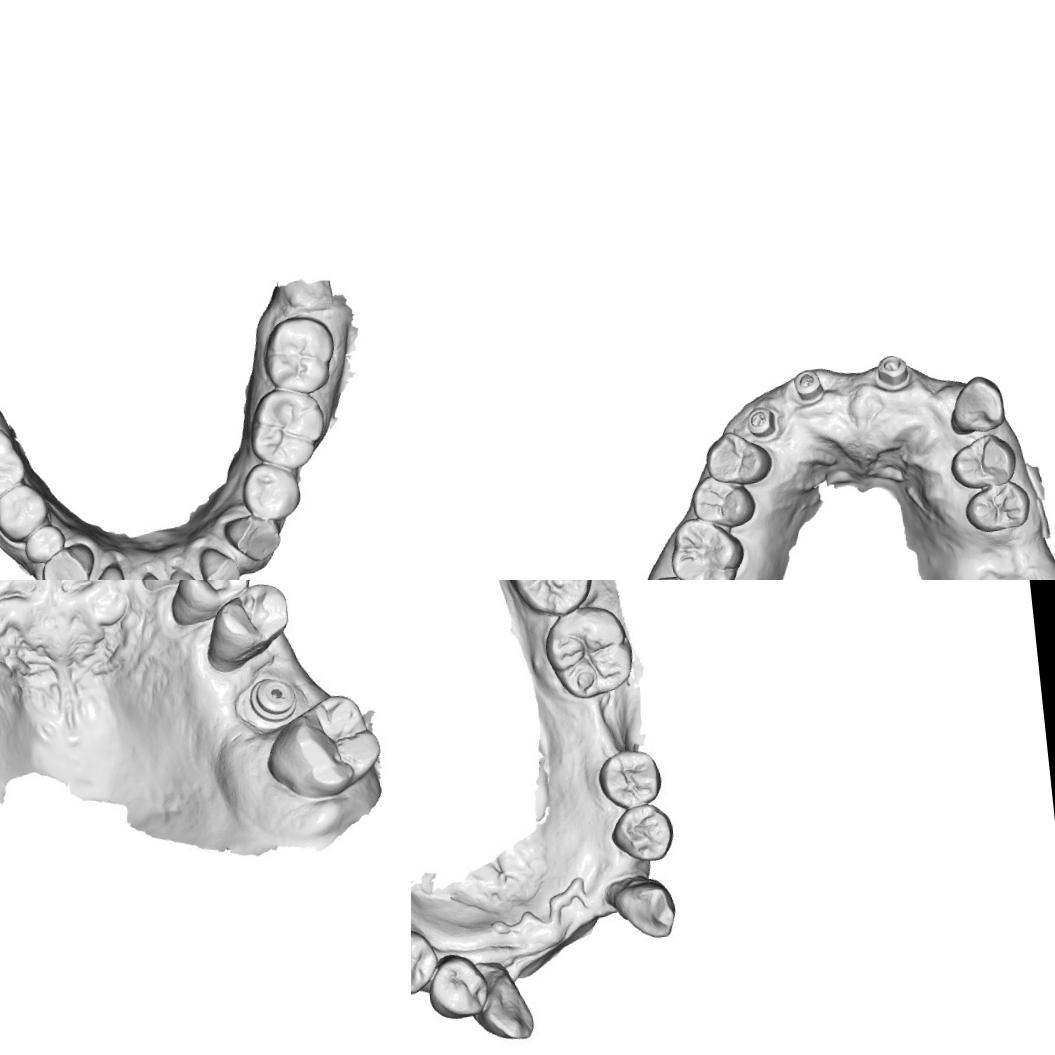canine: (608, 876, 684, 944), (472, 968, 538, 1046), (945, 372, 1009, 438), (224, 511, 286, 567), (36, 539, 100, 580)
implant: (235, 672, 316, 733), (871, 351, 914, 393), (790, 365, 829, 406), (744, 402, 780, 441)
incisor: (198, 544, 246, 580), (85, 561, 131, 580), (163, 567, 212, 580)
molar: (258, 694, 388, 806), (539, 601, 638, 703), (258, 310, 341, 400), (665, 513, 749, 580), (504, 580, 598, 621), (0, 419, 29, 507)
premolar: (198, 582, 294, 674), (243, 384, 330, 473), (423, 948, 492, 1023), (161, 580, 256, 630), (944, 430, 1020, 492), (594, 744, 664, 811), (701, 426, 775, 489), (238, 457, 305, 526), (606, 800, 676, 866), (688, 470, 760, 534), (960, 478, 1034, 536), (0, 480, 52, 544), (411, 924, 443, 1000), (20, 521, 68, 566)
